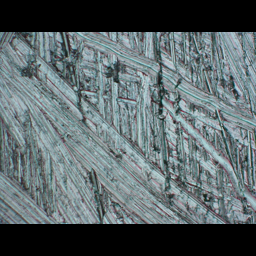d: (0, 33, 253, 223)
